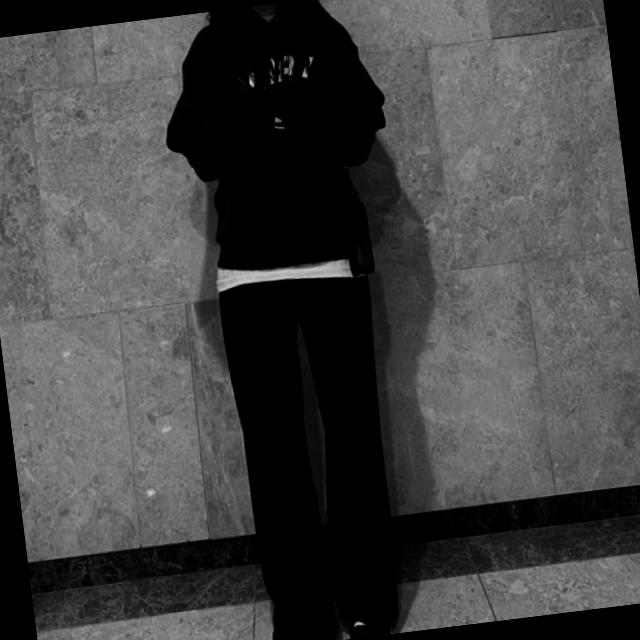hoodies: (148, 0, 401, 284)
slacks: (216, 265, 407, 640)
